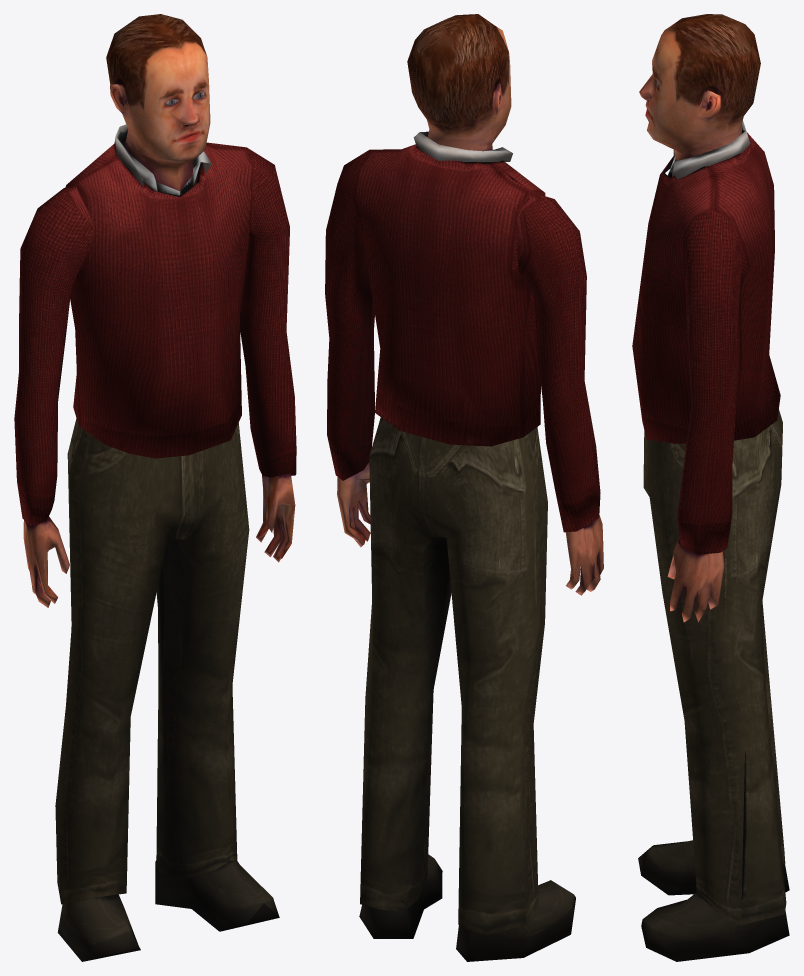
Rendered from man-casual-2-cbj_LOD01.gltf.
3 views of the same model, side by side, from view 1: azimuth 30°, elevation 25°; view 2: azimuth 150°, elevation 25°; view 3: azimuth 270°, elevation 25° (orthographic).
Visible parts, largest first — view 1: legs, trunk-no-arm, arm, head; view 2: legs, trunk-no-arm, arm, head; view 3: legs, trunk-no-arm, head.
Part boxes in pixels (bbox=[...]): legs: bbox=[55, 418, 279, 961]; trunk-no-arm: bbox=[65, 124, 296, 562]; arm: bbox=[14, 186, 94, 607]; head: bbox=[106, 14, 210, 191]; legs: bbox=[359, 417, 575, 961]; trunk-no-arm: bbox=[325, 131, 545, 547]; arm: bbox=[516, 192, 603, 595]; head: bbox=[407, 14, 511, 162]; legs: bbox=[638, 409, 789, 961]; trunk-no-arm: bbox=[632, 120, 780, 622]; head: bbox=[639, 14, 760, 169].
Bounding box in the file's own units: 0.5048 × 1.65 × 0.2624.
